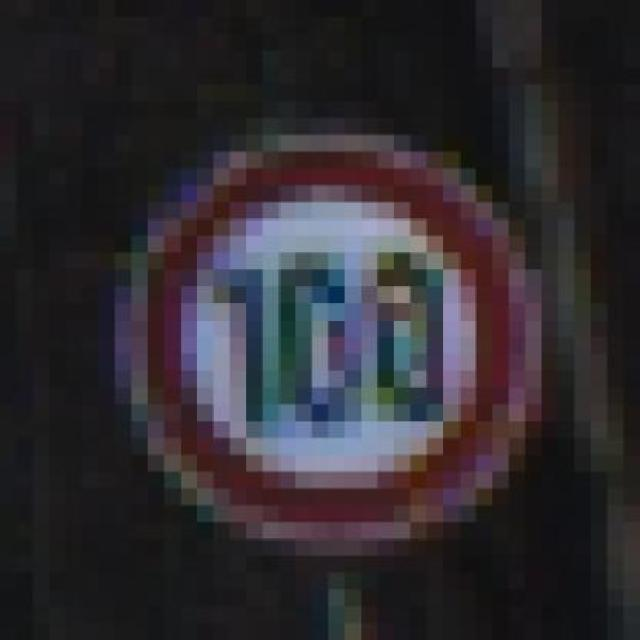forb_speed_over_100: (143, 140, 534, 540)
